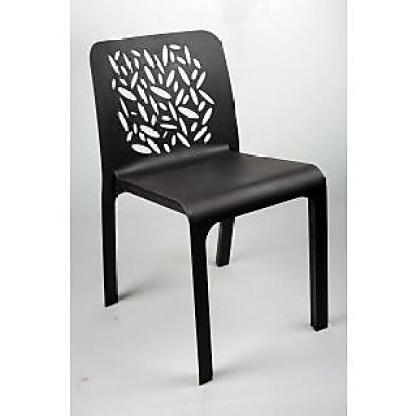chair: (88, 27, 340, 393)
